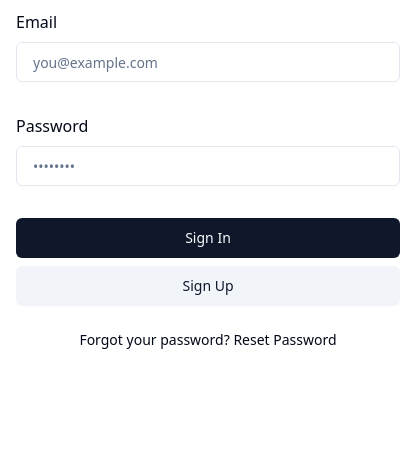
LoginPageClient › offers to resend confirmation when the email is unconfirmed
Type "player@example.com" into the field labelled "Email" at (208, 62), box x1=16 y1=42 x2=400 y2=82
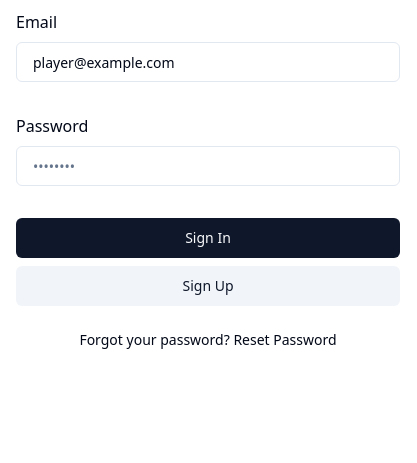
Type "password123" into the password field labelled "Password" at (208, 166), box x1=16 y1=146 x2=400 y2=186
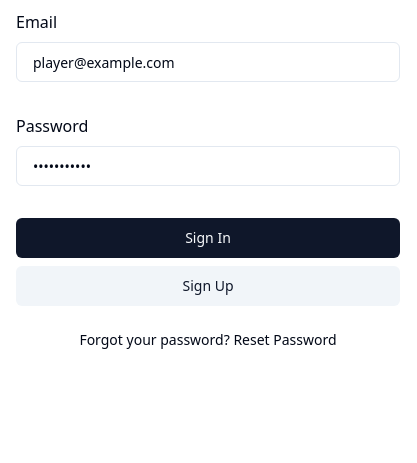
Click the button "Sign In" at (208, 238), box x1=16 y1=218 x2=400 y2=258
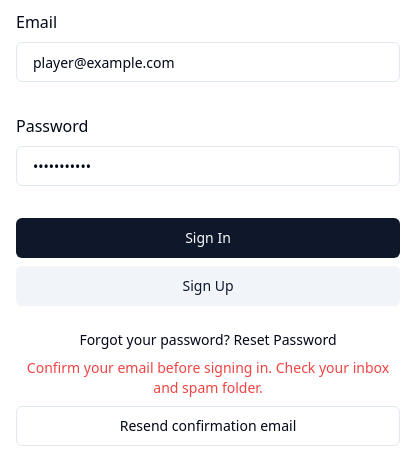
expect the text "Confirm your email before signing in" is shown: met, box x1=27 y1=358 x2=389 y2=397
Click the button "Resend confirmation email" at (208, 426), box x1=16 y1=406 x2=400 y2=446
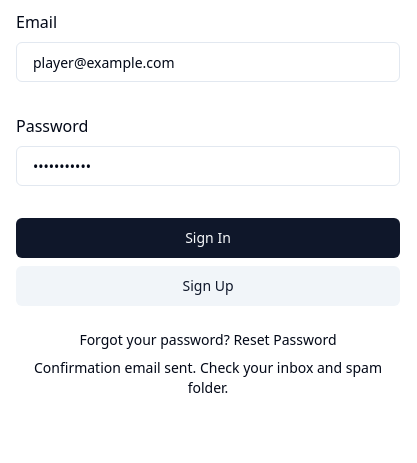
expect the text "Confirmation email sent. Check your inbox and spam folder." is shown: met, box x1=16 y1=358 x2=400 y2=398
